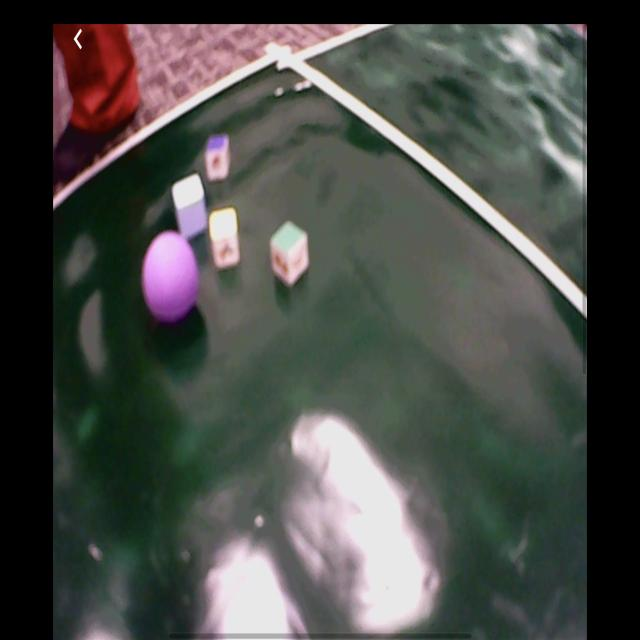ball: (141, 231, 201, 324)
